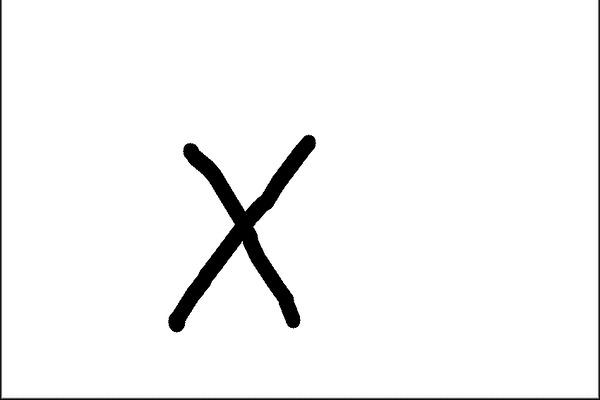X: (130, 125, 321, 344)
